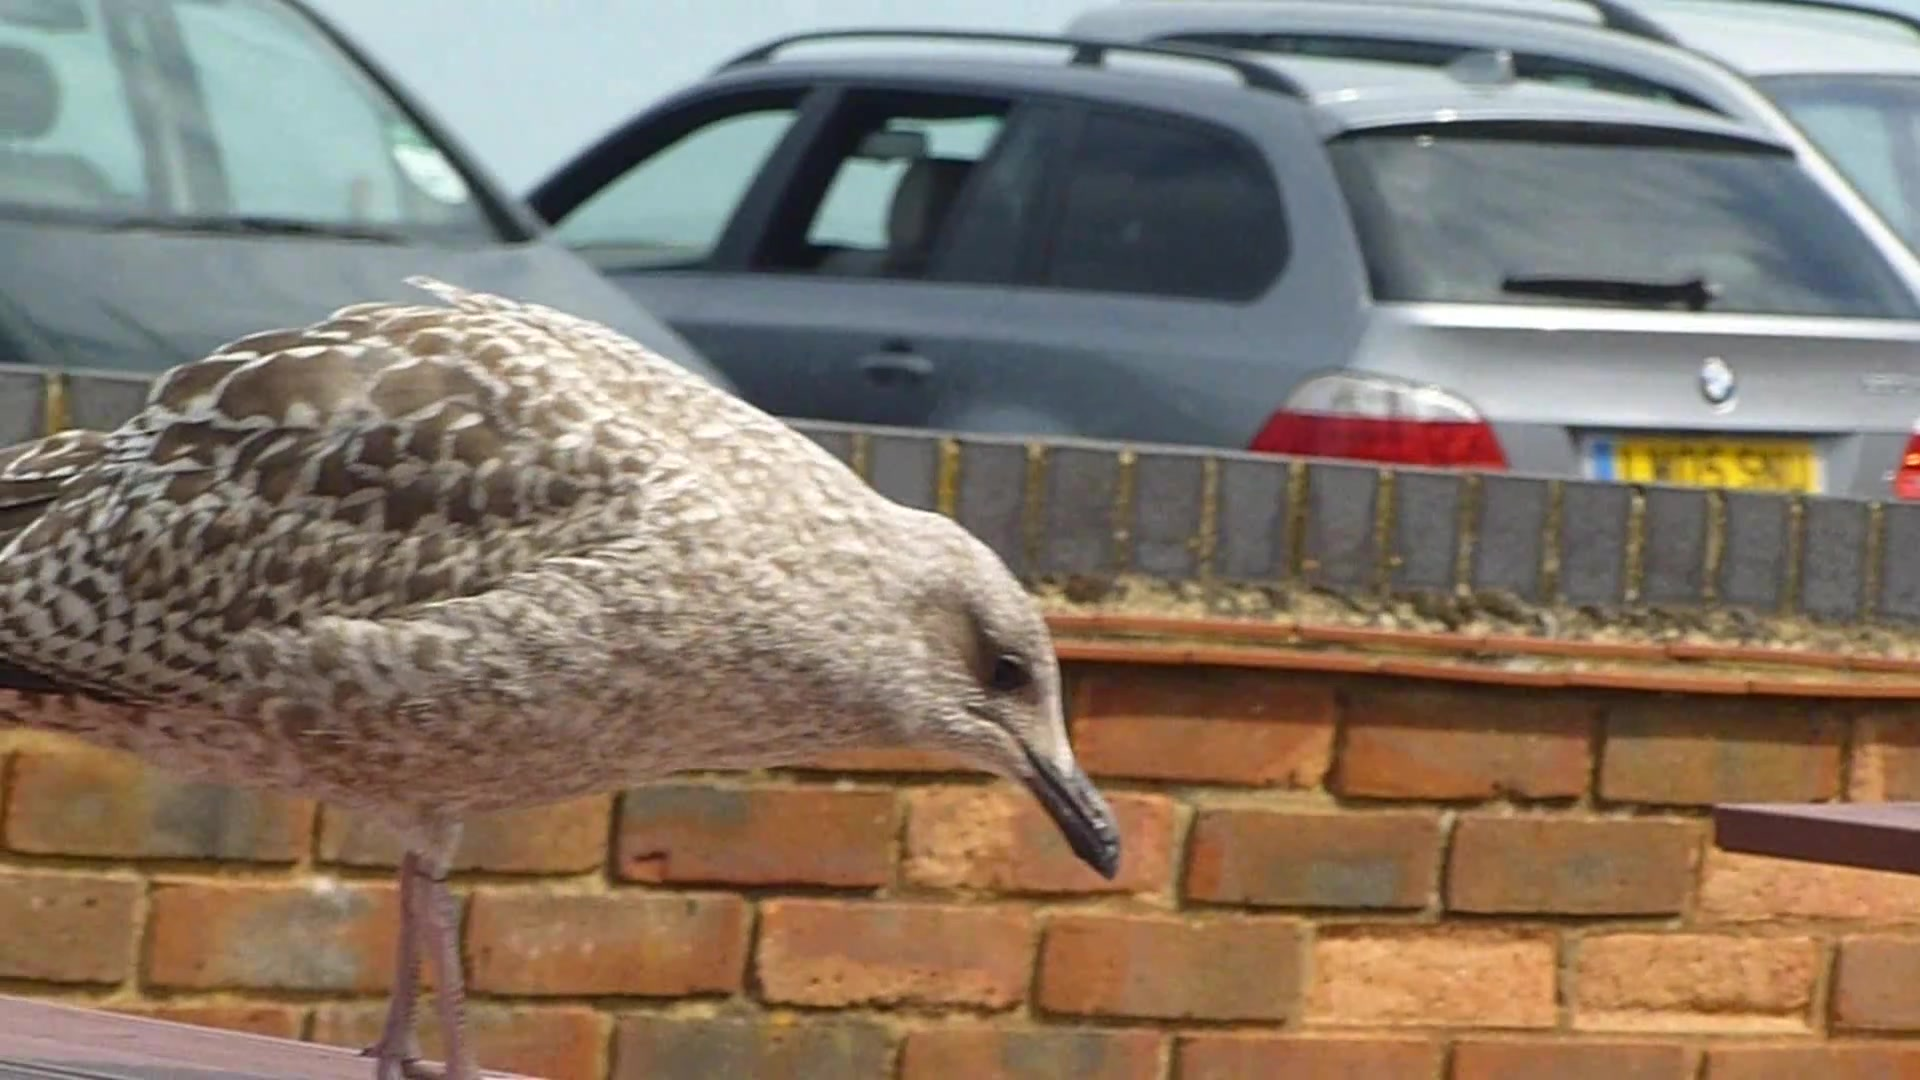bird: (3, 276, 1121, 1080)
